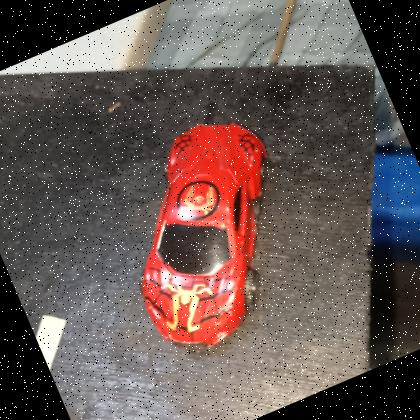Car: (84, 101, 334, 368)
